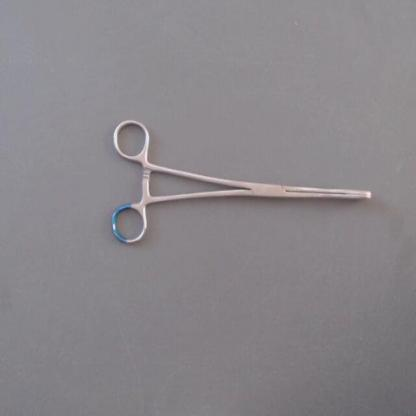Sponge Forceps: (102, 110, 378, 255)
